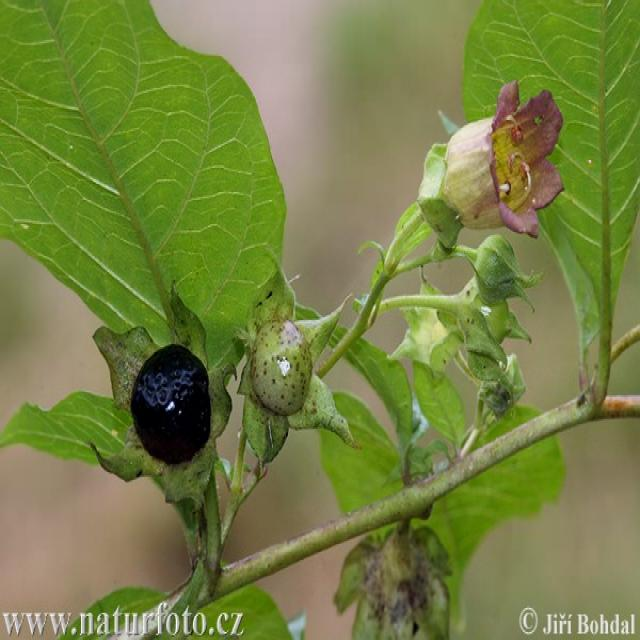Poisonous-Deadly_Nightshade: (0, 0, 288, 360), (59, 267, 386, 531), (387, 83, 600, 440)
